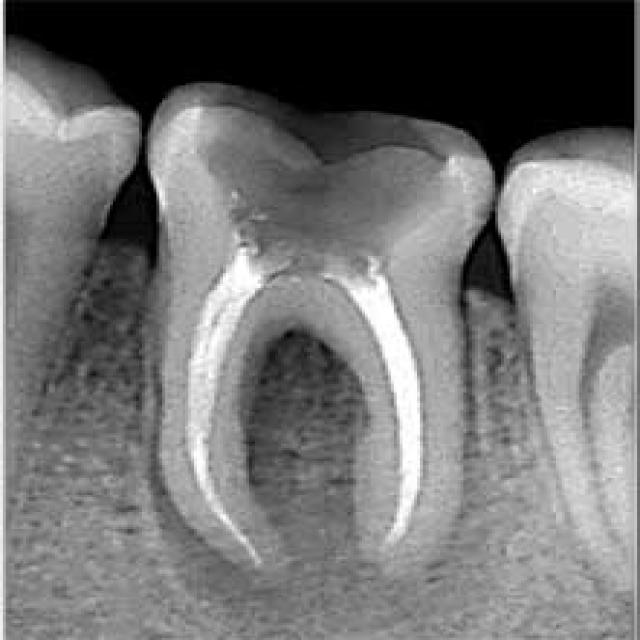Caries: (143, 82, 494, 583)
